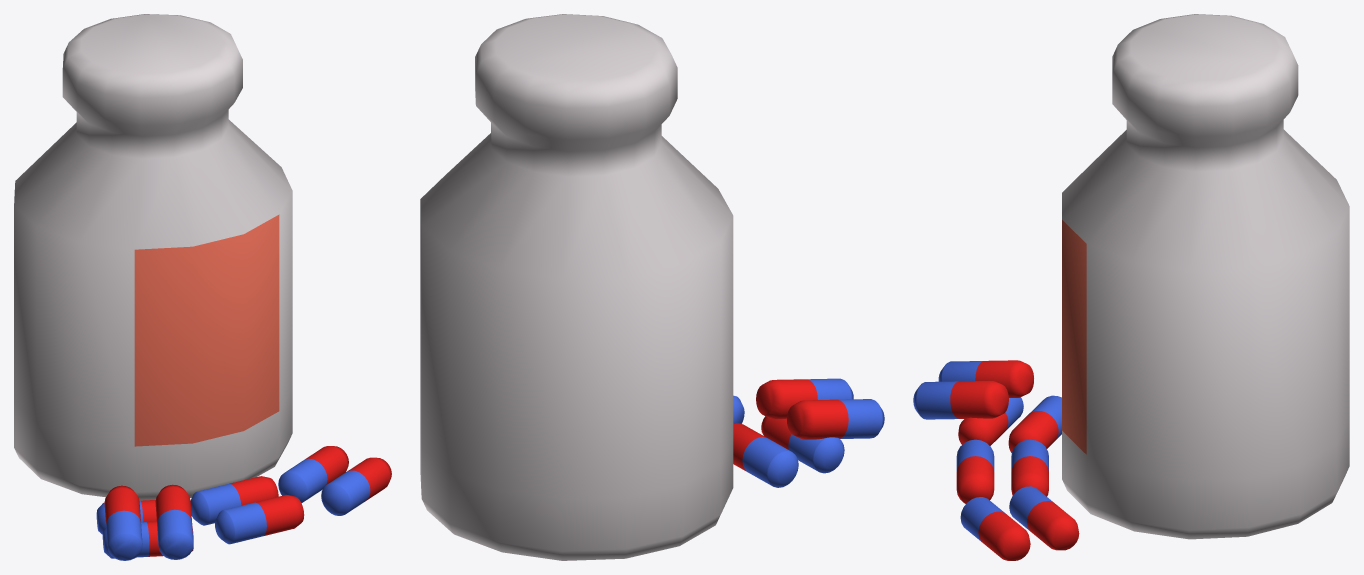
Rendered from Analgesics.fbx.
3 renders of one model, left to right at view 1: azimuth 30°, elevation 25°; view 2: azimuth 150°, elevation 25°; view 3: azimuth 270°, elevation 25°, orthographic. The views are drawn at different scales.
Parts seen in each view (by area): view 1: Cylinder.003; view 2: Cylinder.003; view 3: Cylinder.003.
Part boxes in pixels (left/top/right/bottom): Cylinder.003: left=14, top=14, right=391, bottom=560; Cylinder.003: left=420, top=14, right=884, bottom=560; Cylinder.003: left=913, top=14, right=1349, bottom=560.
Size of the model in its own units: 248 by 321 by 286.
